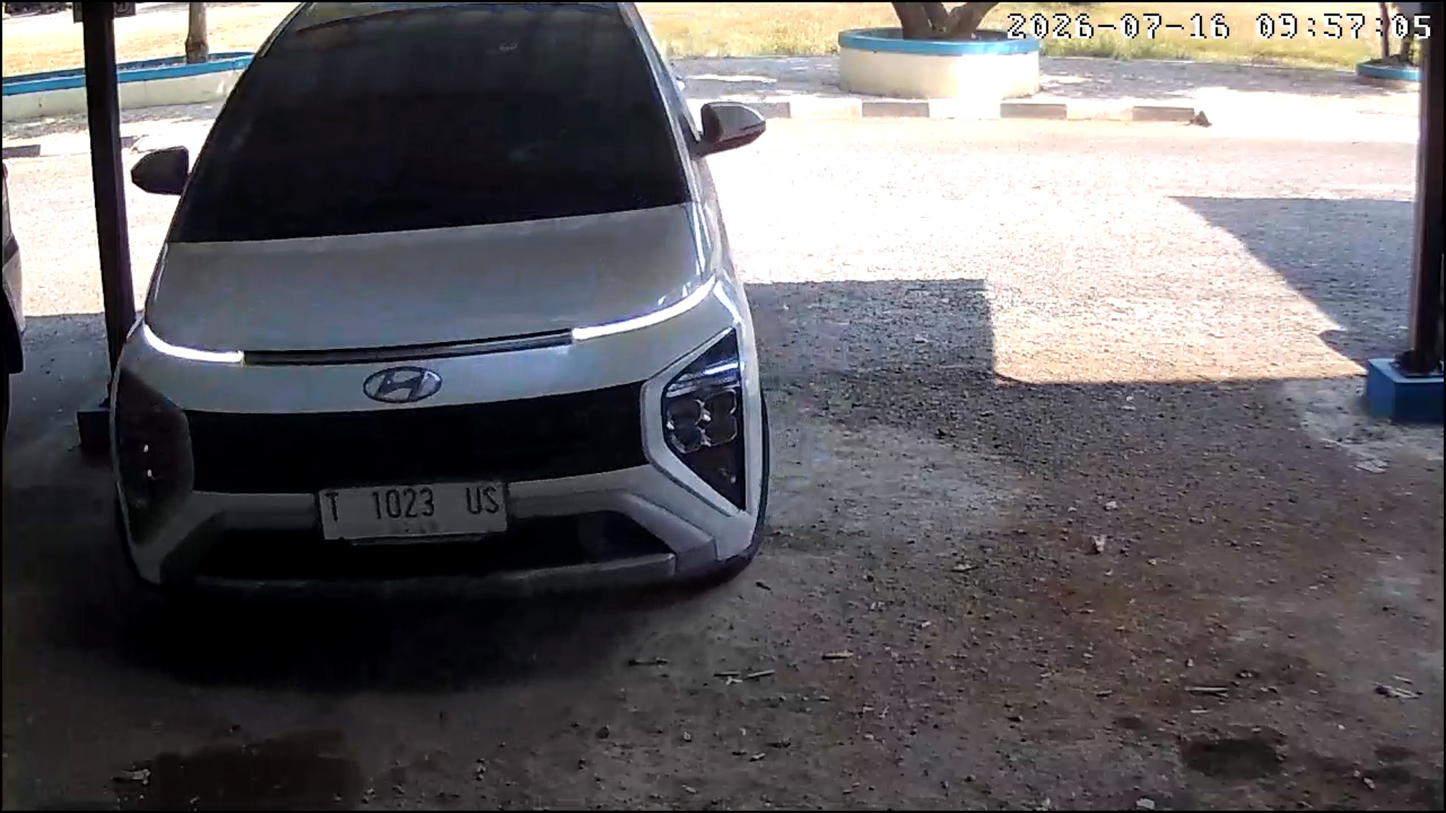plat nomor: (317, 479, 508, 545)
